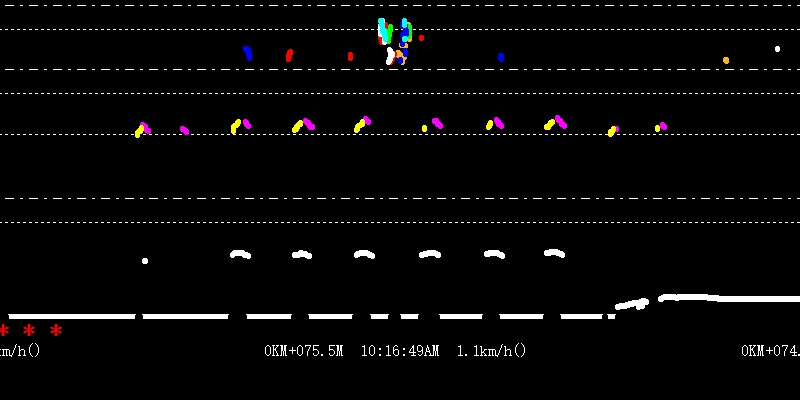J: (376, 3, 414, 63)
star: (20, 320, 36, 340), (48, 320, 65, 337)
y_p: (224, 111, 577, 269)
